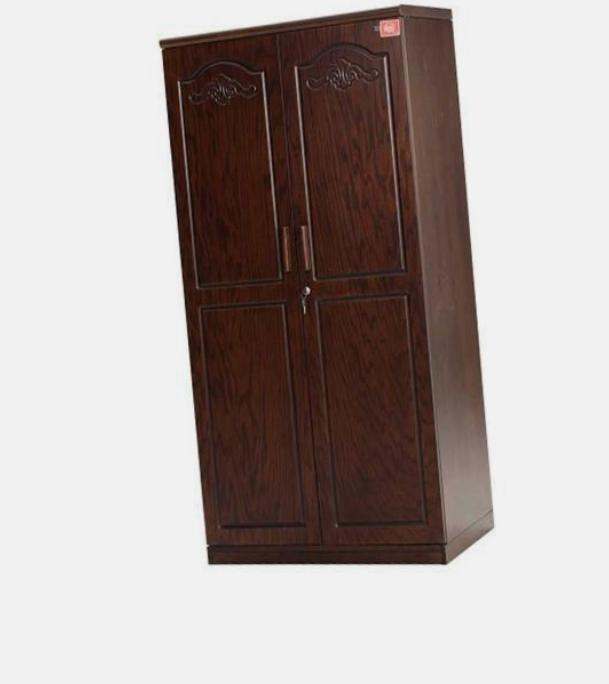Armario: (150, 0, 503, 574)
